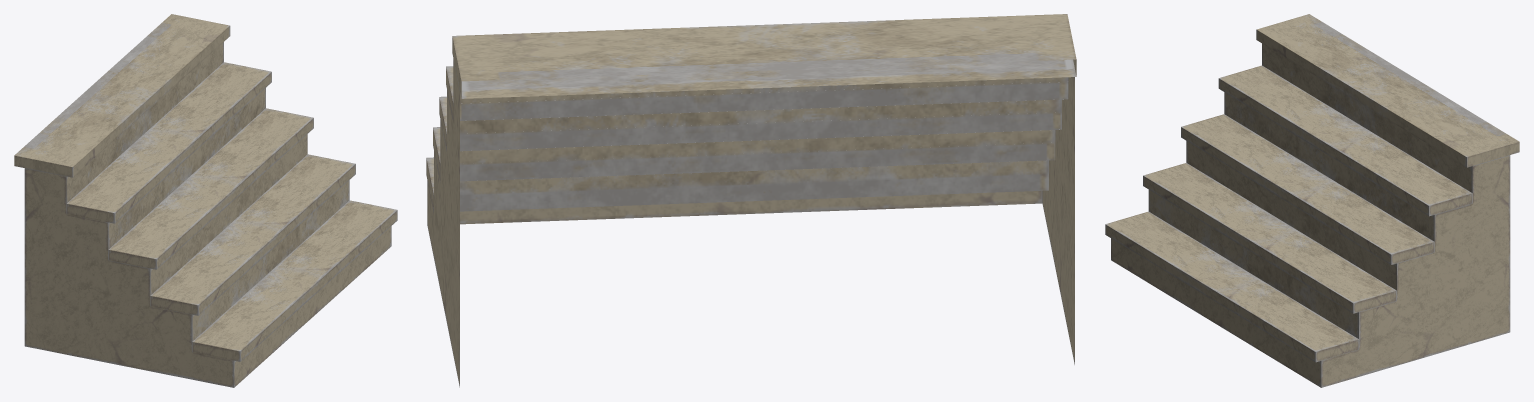
3 renders of one model, left to right at view 1: azimuth 30°, elevation 25°; view 2: azimuth 150°, elevation 25°; view 3: azimuth 270°, elevation 25°, orthographic. The views are drawn at different scales.
Parts seen in each view (by area): view 1: SM_town_BD_stiar; view 2: SM_town_BD_stiar; view 3: SM_town_BD_stiar.
Part boxes in pixels (x1,y1,x2,y2): SM_town_BD_stiar: (14, 14, 397, 387); SM_town_BD_stiar: (426, 14, 1076, 387); SM_town_BD_stiar: (1105, 14, 1519, 387).
Bounding box in the file's own units: 283 × 132 × 264.
